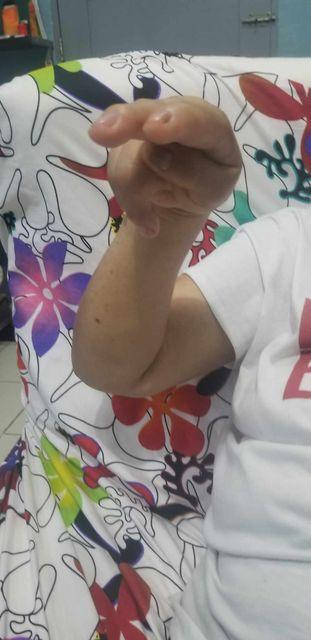n: (87, 94, 245, 238)
